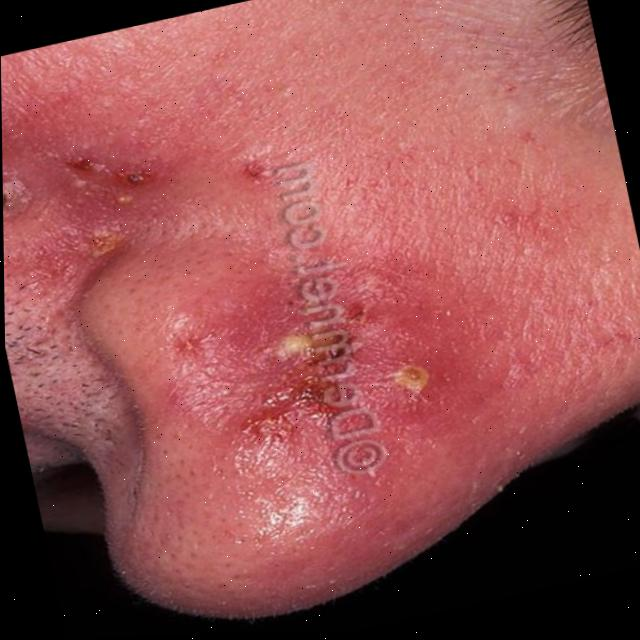Rosacea: (155, 234, 559, 636), (1, 33, 288, 299)
